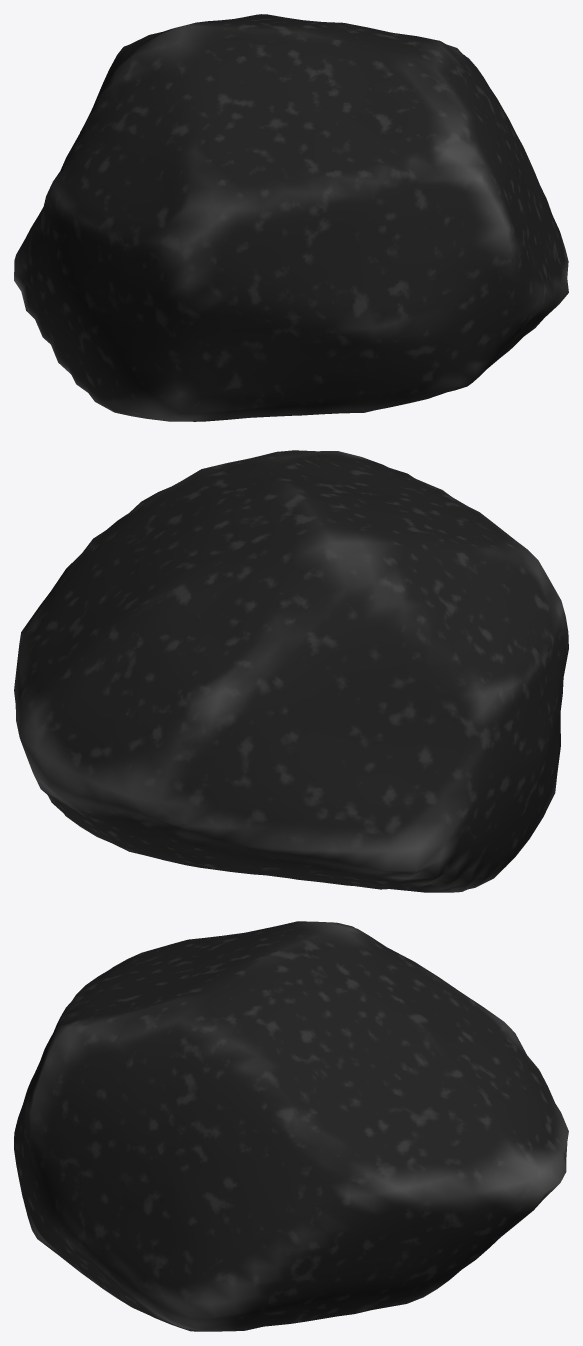
Rendered from lunar_rock2.glb.
3 renders of one model, top to bottom at view 1: azimuth 30°, elevation 25°; view 2: azimuth 150°, elevation 25°; view 3: azimuth 270°, elevation 25°, orthographic. The views are drawn at different scales.
Visible parts, largest first — view 1: lunar_rock_2; view 2: lunar_rock_2; view 3: lunar_rock_2.
Part boxes in pixels (x1,y1,x2,y2): lunar_rock_2: (14, 14, 568, 421); lunar_rock_2: (14, 450, 568, 892); lunar_rock_2: (14, 921, 568, 1331).
Bounding box in the file's own units: 0.1349 × 0.0975 × 0.1467.
Materials: 1 (1 with a texture image).
